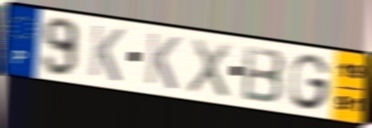9: (38, 15, 80, 79)
B: (240, 43, 288, 106)
G: (288, 52, 333, 112)
K: (143, 30, 182, 93), (87, 22, 126, 85)
X: (185, 36, 232, 101)
